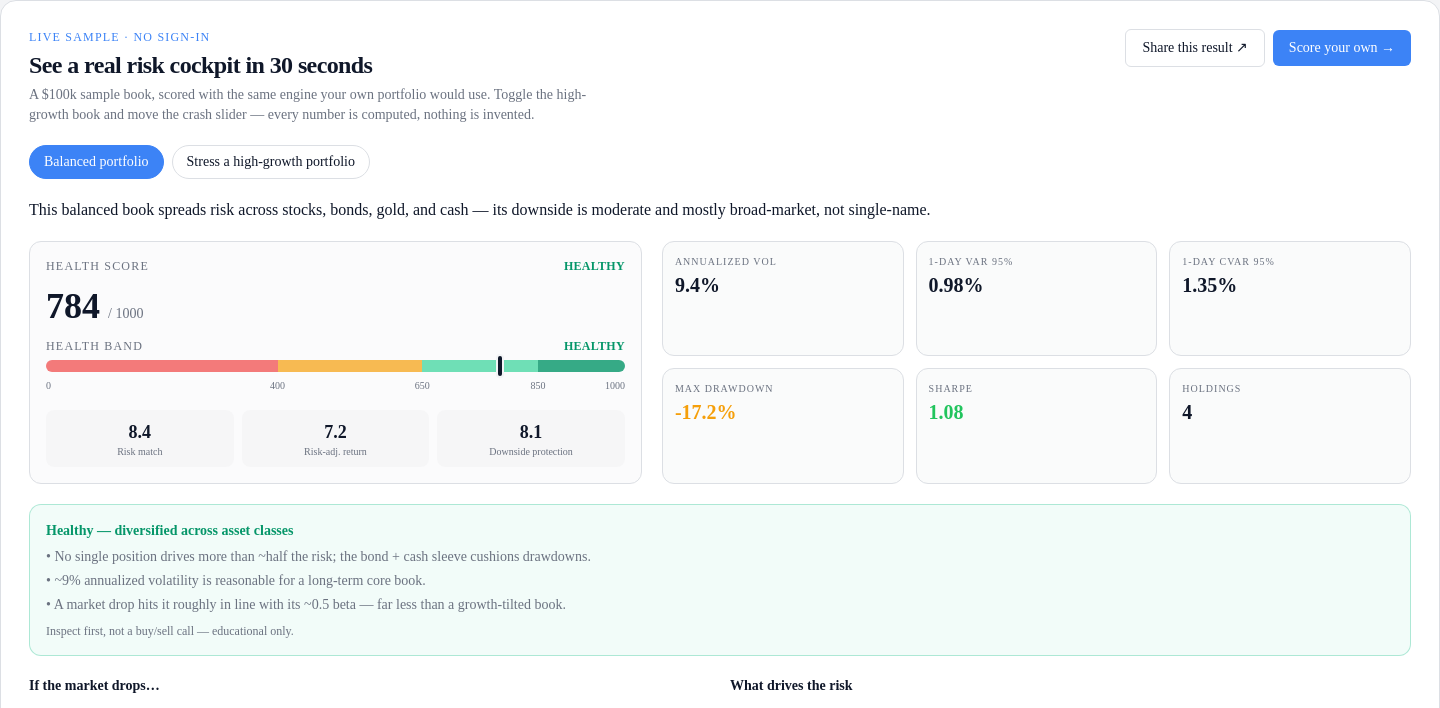
SampleCockpit › toggles to the high-growth book → different score + concentration warning
Expected: the text "784" is shown, x1=46 y1=286 x2=100 y2=326
Expected: the text "single-theme" is not shown
Click the button "Stress a high-growth portfolio": [271, 162] box x1=172 y1=145 x2=370 y2=179
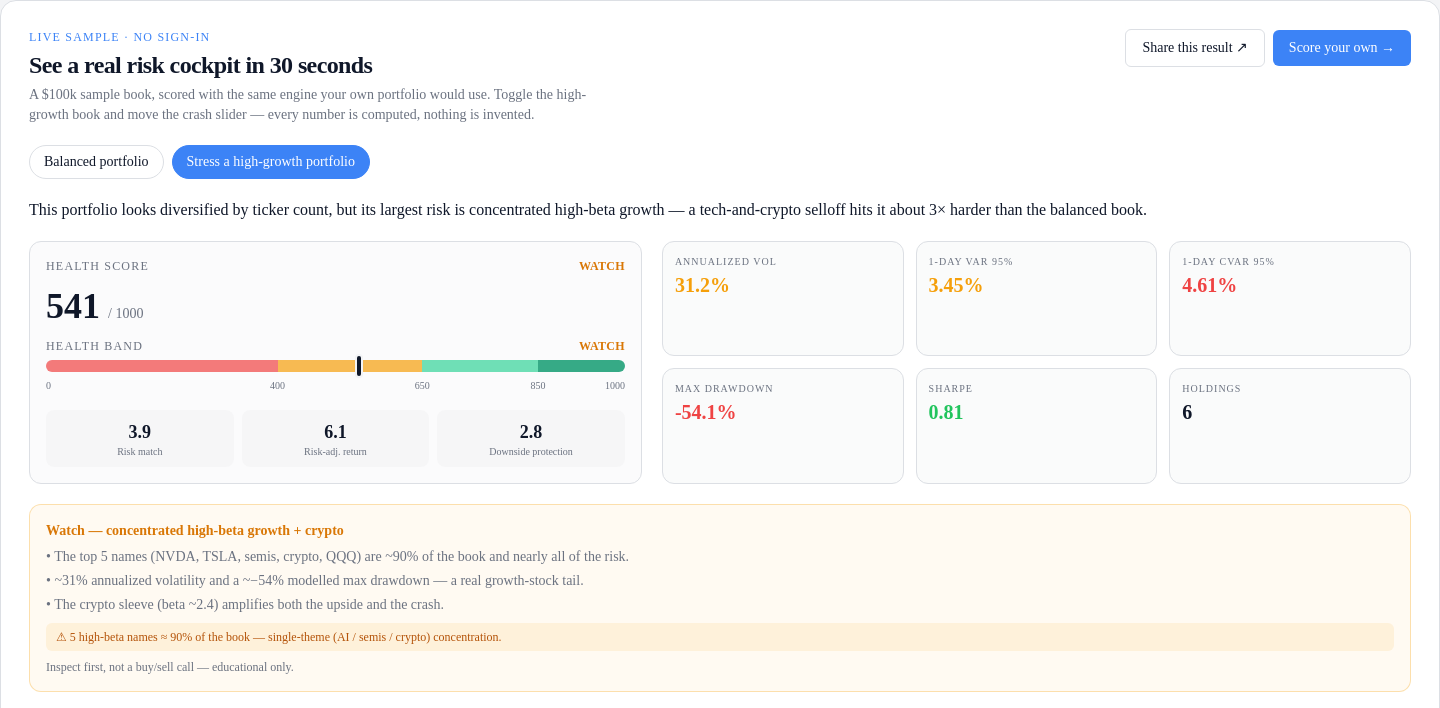
Expected: the text "541" is shown, x1=46 y1=286 x2=100 y2=326
Expected: the text "784" is gone
Expected: the text "single-theme" is shown, x1=70 y1=630 x2=502 y2=644
